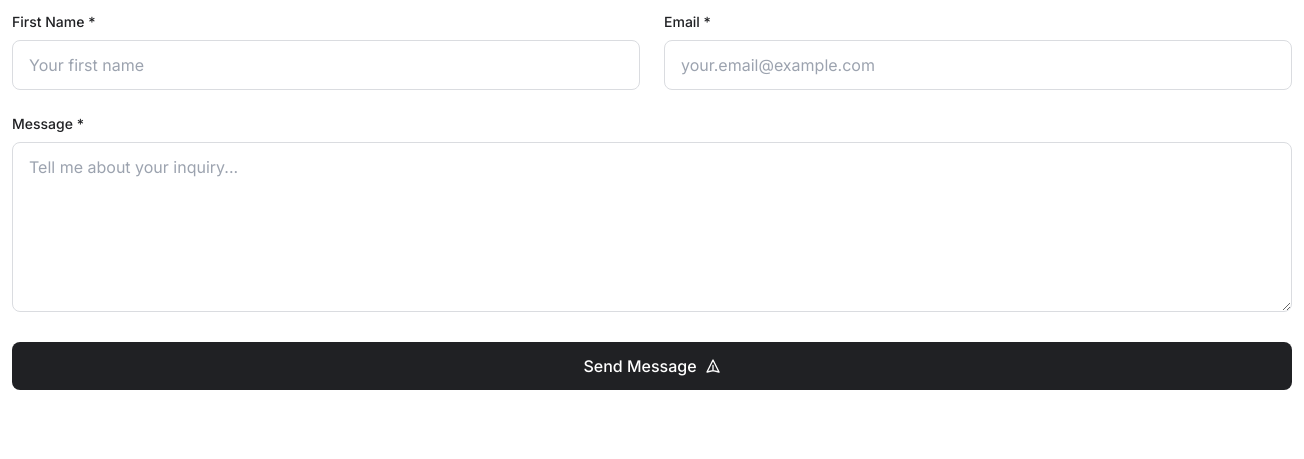
Test: ContactForm › Form Validation › validates first name length
The image size is (1304, 459).
Type "A" into the field labelled "First Name *" at (326,65), box [12, 40, 640, 90]
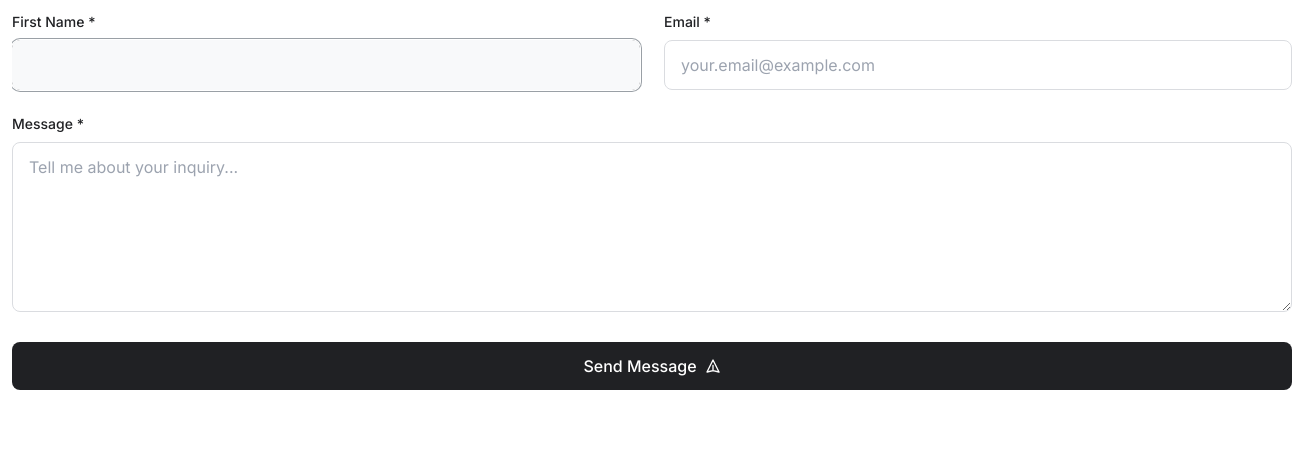
Click the button "Send Message" at (652,366), box [12, 342, 1292, 390]
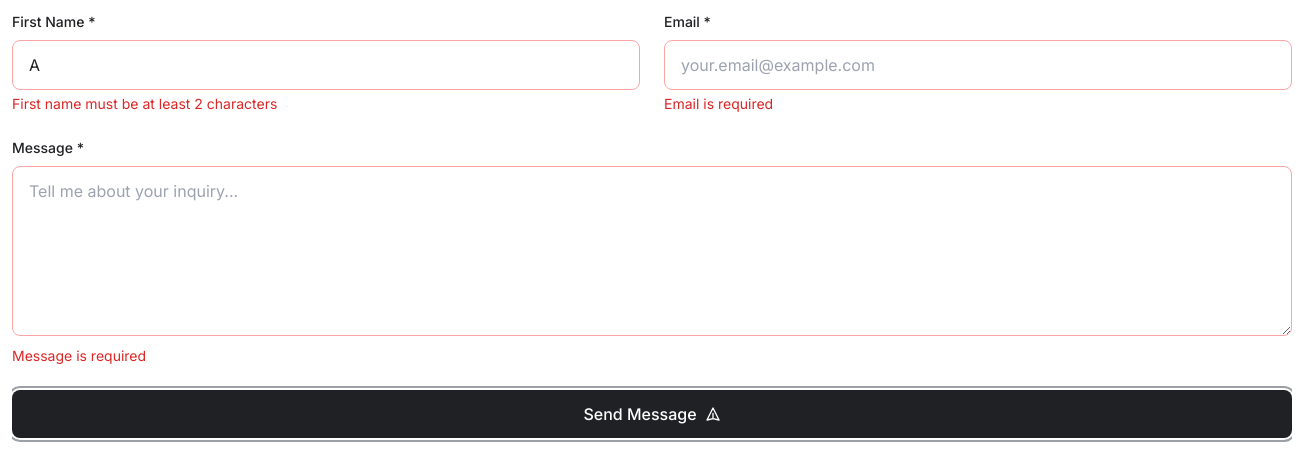
Expected: the text "First name must be at least 2 characters" is shown, [12, 95, 277, 112]
